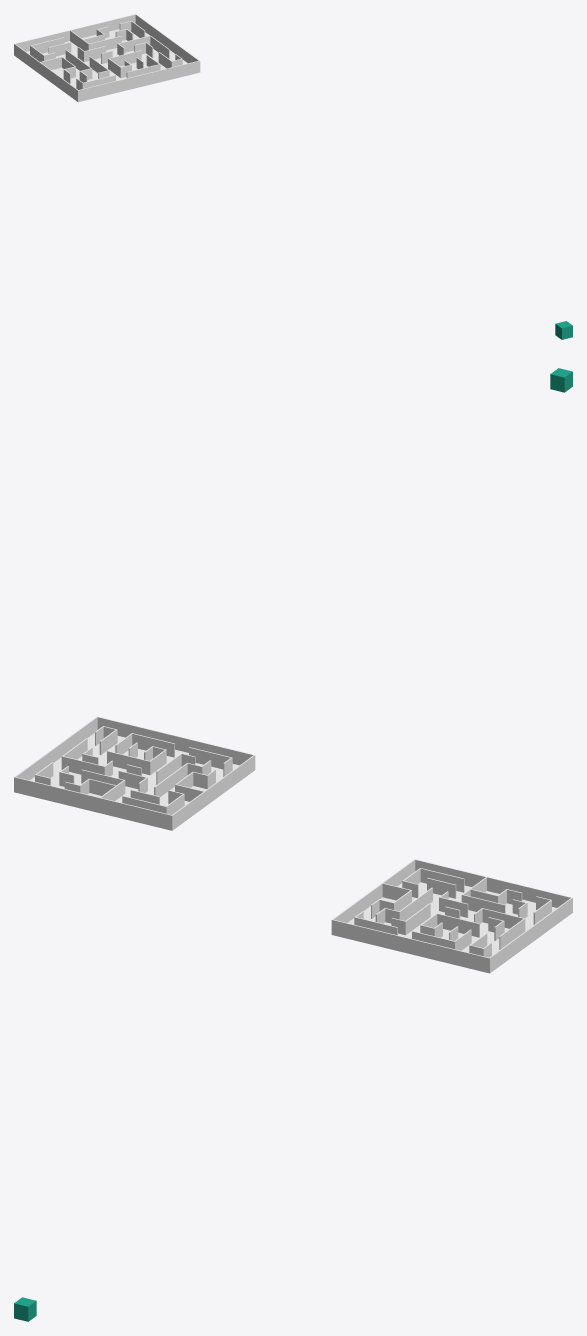
The model's file is gameboard.DAE.
The picture shows the model from 3 angles, top to bottom: view 1: azimuth 30°, elevation 25°; view 2: azimuth 150°, elevation 25°; view 3: azimuth 330°, elevation 25°; orthographic projection. The views are drawn at different scales.
Parts seen in each view (by area): view 1: Line01, Box01; view 2: Line01, Box01; view 3: Line01, Box01.
Part boxes in pixels (x1,y1,x2,y2): Line01: (14,14,200,102); Box01: (14,29,187,92); Line01: (14,716,255,830); Box01: (14,733,254,830); Line01: (331,859,572,973); Box01: (348,882,572,972).
Size of the model in its own units: 11.75 by 66.84 by 1.
